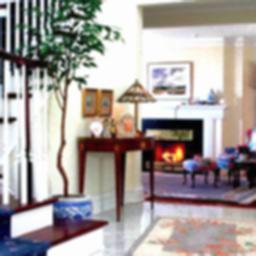Escaleras: (5, 195, 111, 253)
Matera: (37, 9, 118, 220)
